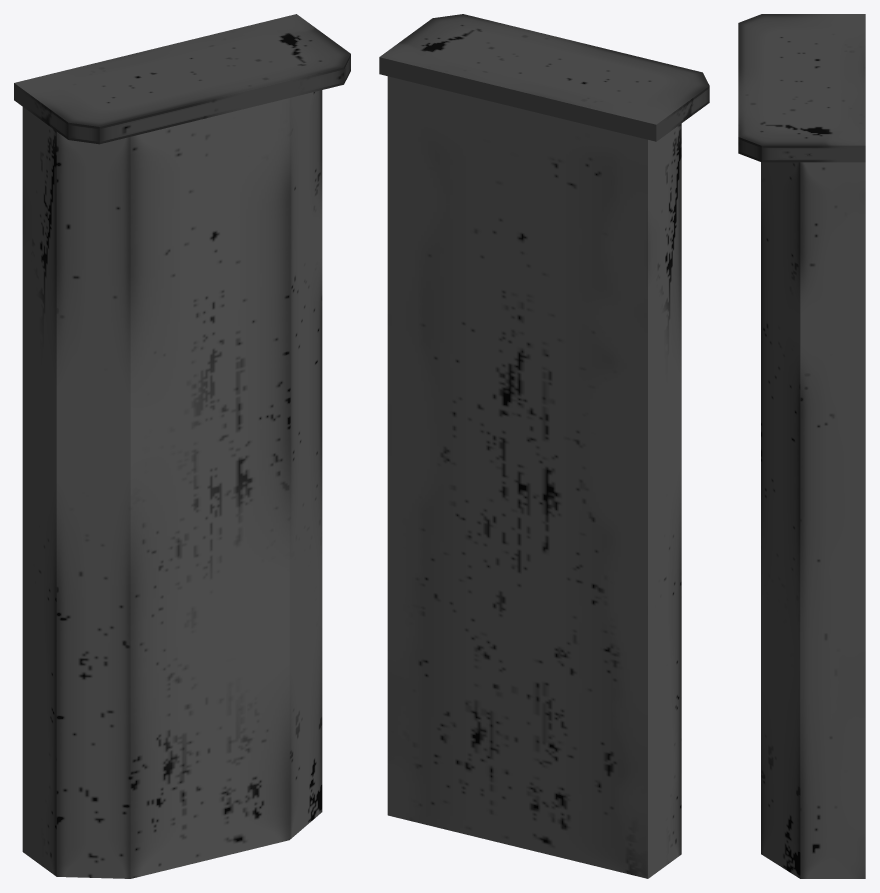
File: Base_Ground_1x3_Cap_Blank_V1.fbx
The picture shows the model from 3 angles, left to right: view 1: azimuth 30°, elevation 25°; view 2: azimuth 150°, elevation 25°; view 3: azimuth 270°, elevation 25°; orthographic projection. The views are drawn at different scales.
Visible parts, largest first — view 1: Base Ground 1x3 Cap Blank V1; view 2: Base Ground 1x3 Cap Blank V1; view 3: Base Ground 1x3 Cap Blank V1.
Part boxes in pixels (<box>): Base Ground 1x3 Cap Blank V1: <box>14,14,350,878</box>; Base Ground 1x3 Cap Blank V1: <box>379,14,709,878</box>; Base Ground 1x3 Cap Blank V1: <box>738,14,865,878</box>.
Size of the model in its own units: 298 by 778 by 122.
